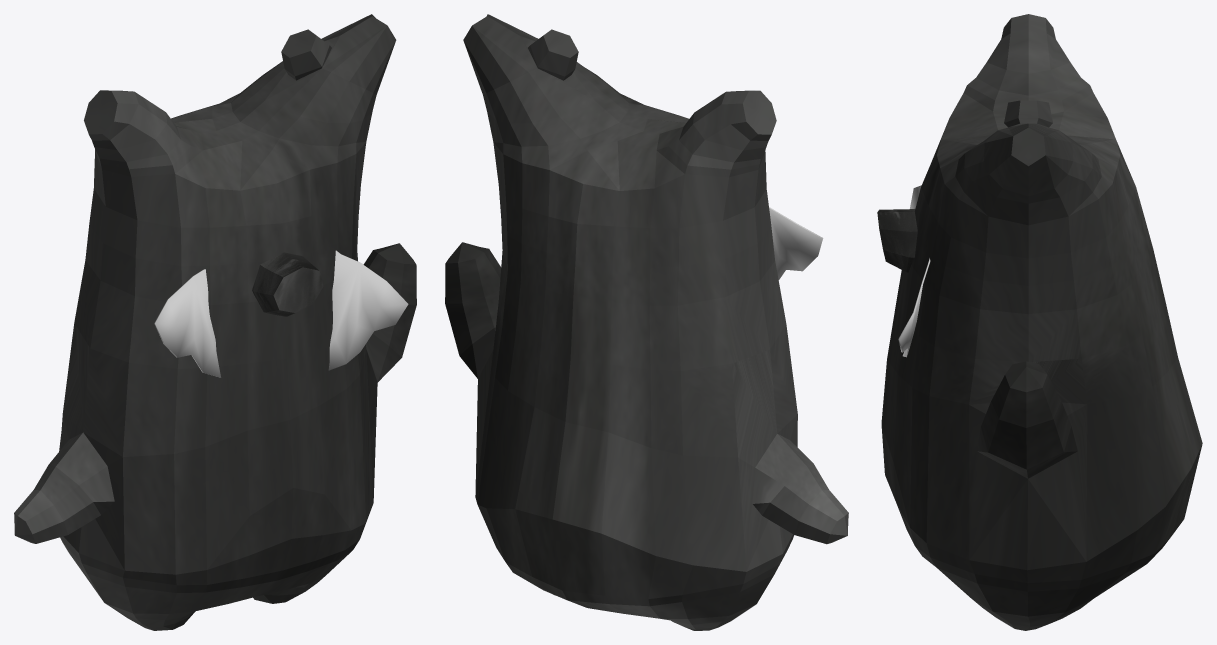
Rendered from frame_0077.obj.
The picture shows the model from 3 angles, left to right: view 1: azimuth 30°, elevation 25°; view 2: azimuth 150°, elevation 25°; view 3: azimuth 270°, elevation 25°; orthographic projection. The views are drawn at different scales.
Visible parts, largest first — view 1: korok, leaf, nose; view 2: korok, leaf; view 3: korok, nose, leaf.
Part boxes in pixels (left/top/right/bottom): korok: left=14, top=14, right=416, bottom=630; leaf: left=154, top=250, right=408, bottom=377; nose: left=252, top=252, right=323, bottom=316; korok: left=445, top=14, right=848, bottom=630; leaf: left=769, top=207, right=823, bottom=279; korok: left=881, top=14, right=1202, bottom=630; nose: left=877, top=209, right=917, bottom=272; leaf: left=898, top=185, right=930, bottom=357.
Size of the model in its own units: 1.63 by 2.19 by 1.18.
